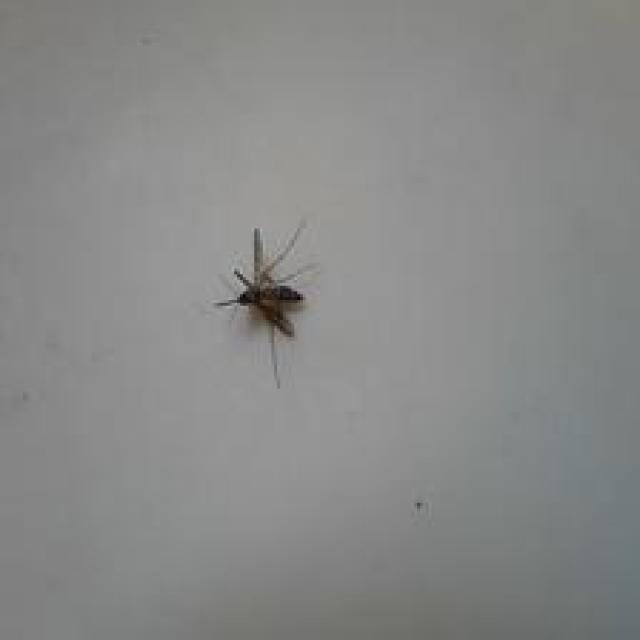Aedes albopictus: (213, 217, 318, 389)
